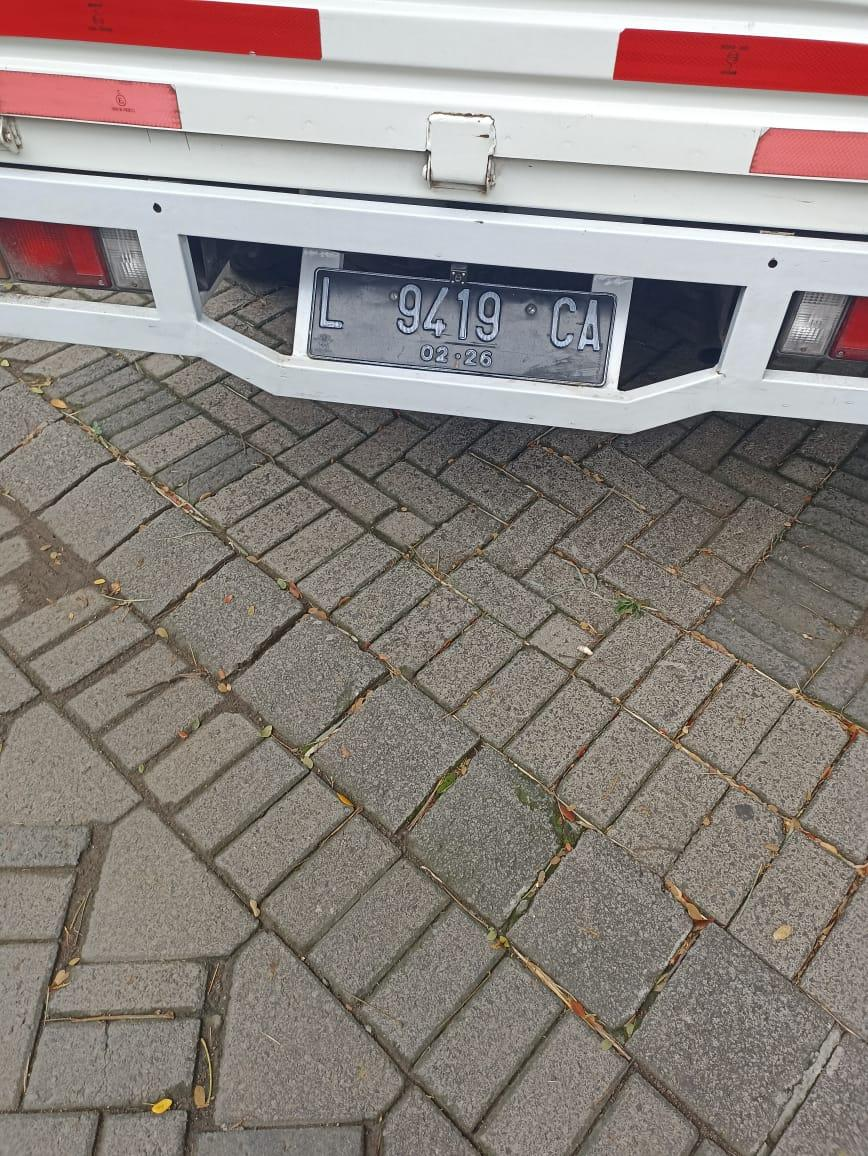plat: (307, 269, 616, 386)
